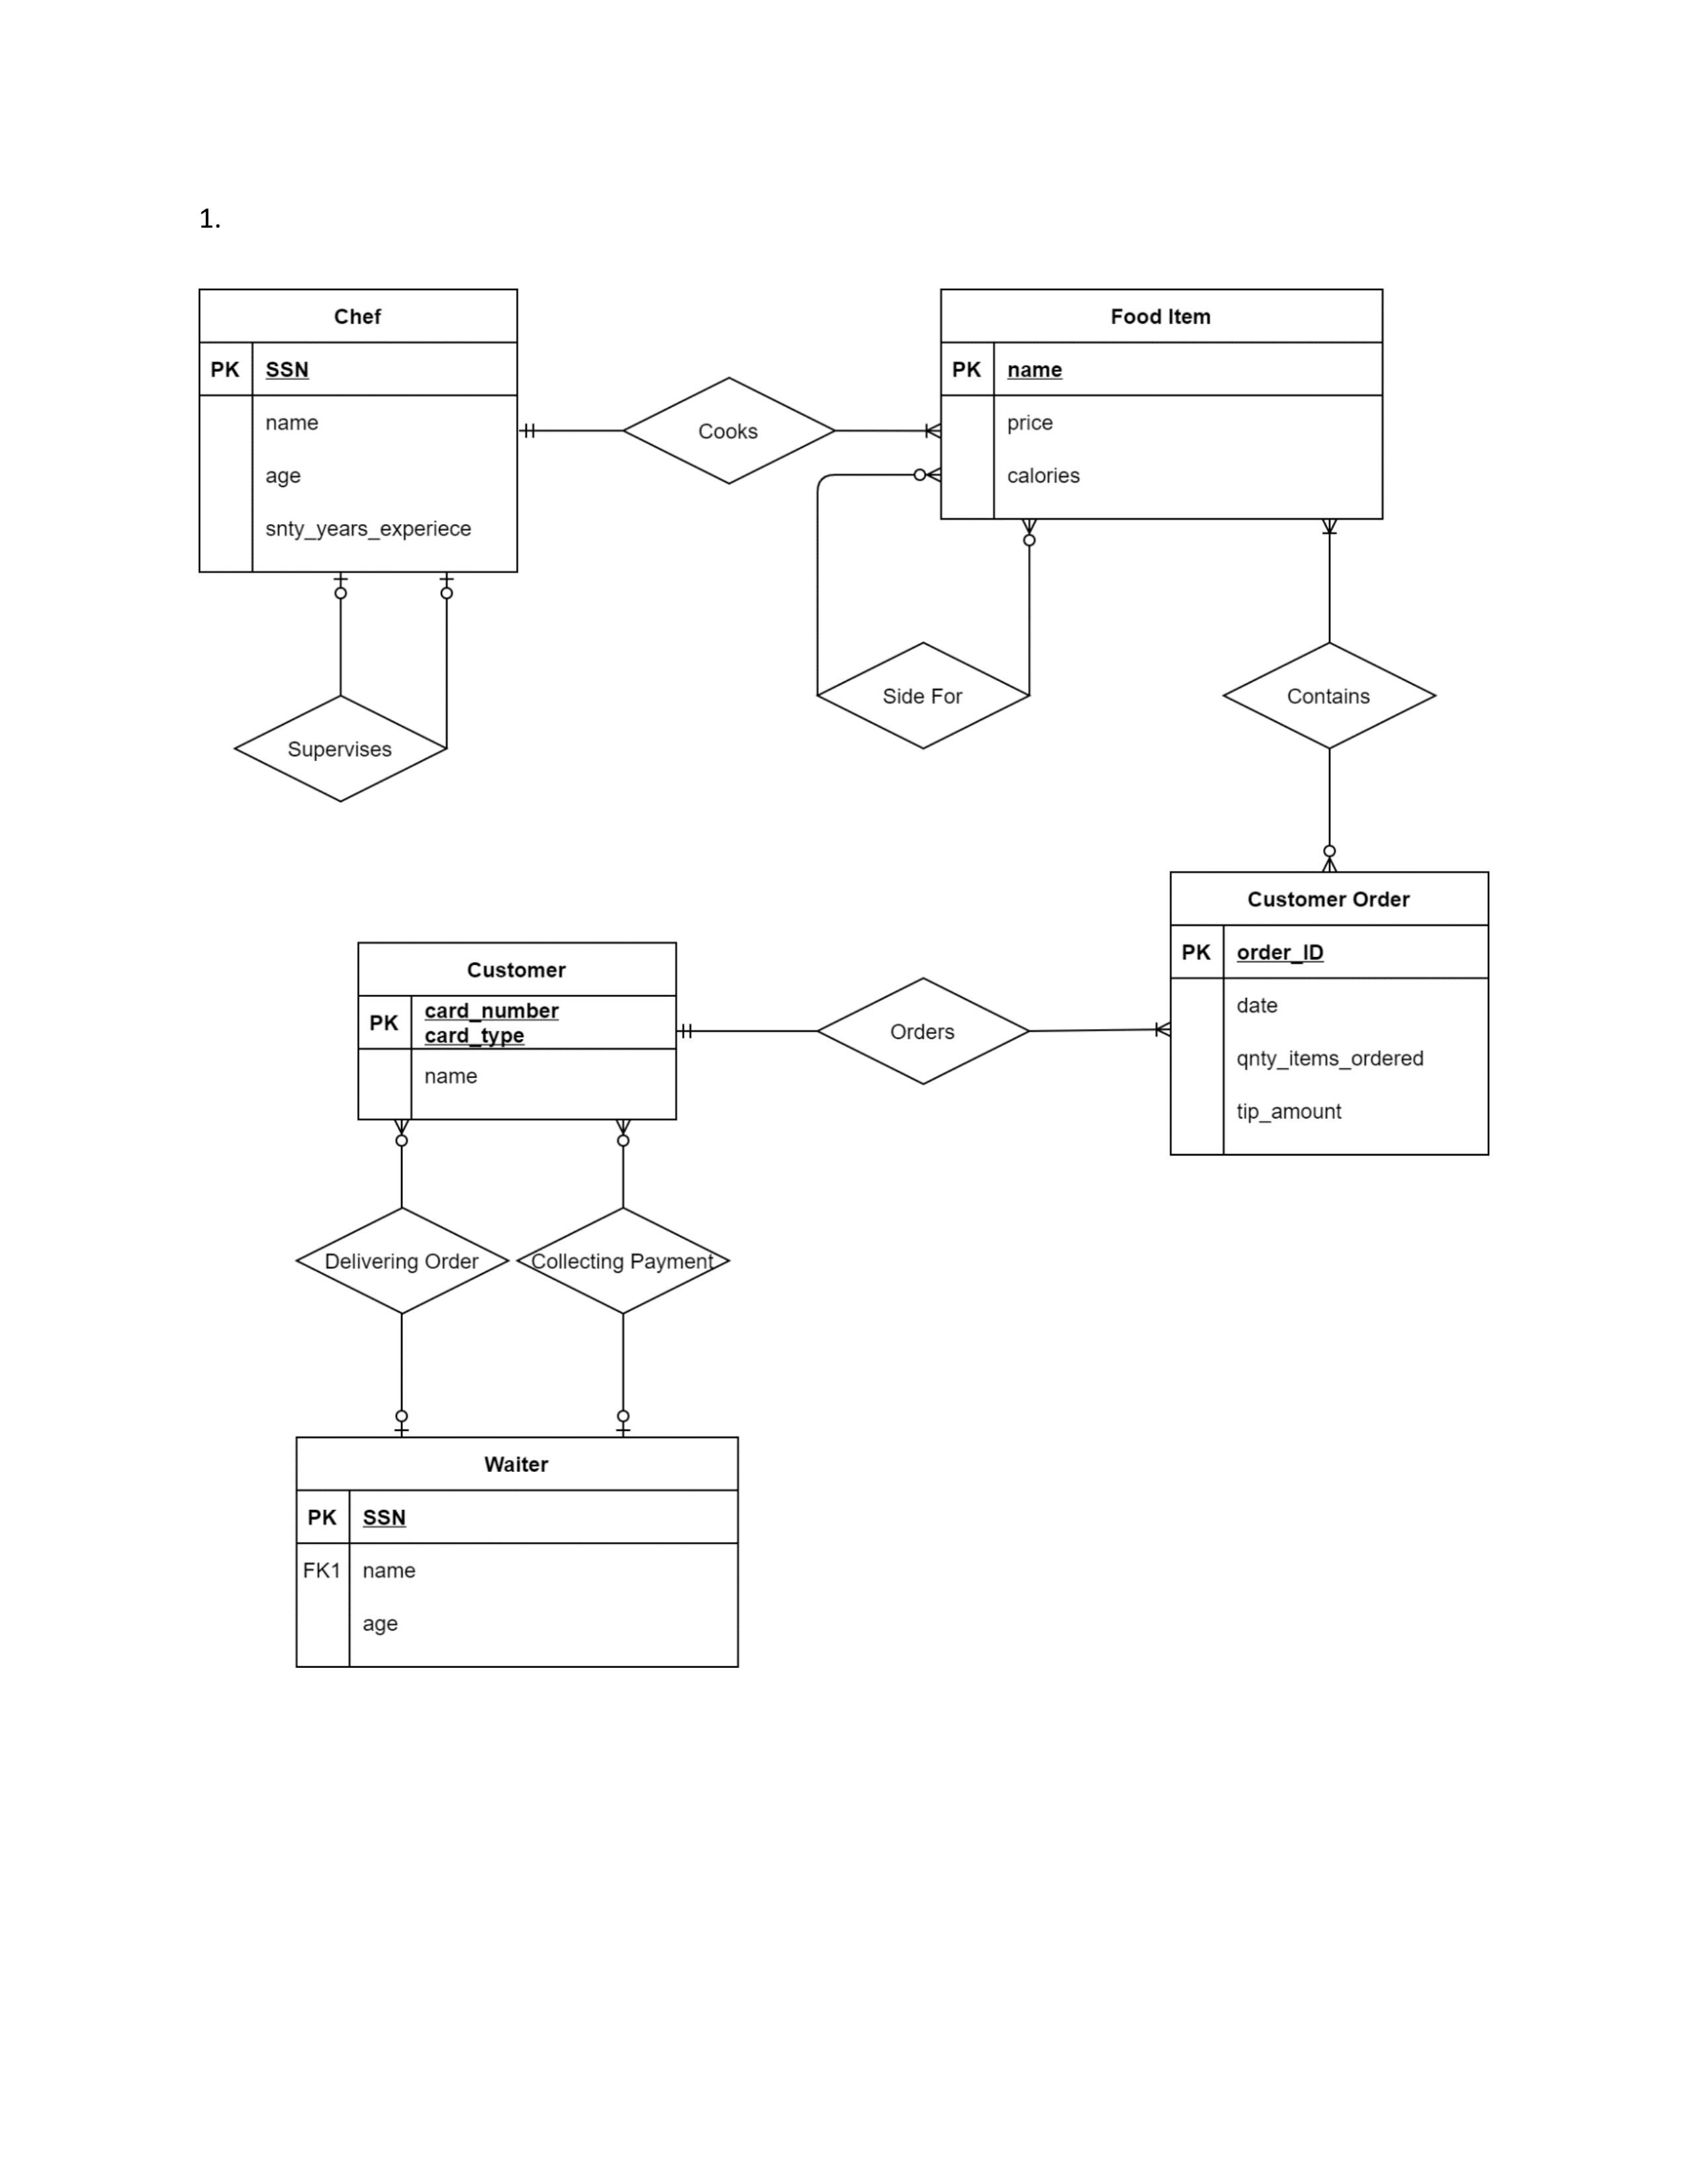Entity: (287, 1429, 748, 1675), (936, 282, 1392, 528), (1163, 862, 1497, 1165), (193, 282, 525, 574), (353, 936, 681, 1124)
Relationship: (1220, 642, 1447, 748), (294, 1204, 509, 1310), (520, 1211, 731, 1319), (236, 695, 445, 799), (624, 376, 833, 480), (826, 977, 1028, 1080), (817, 643, 1027, 743)
